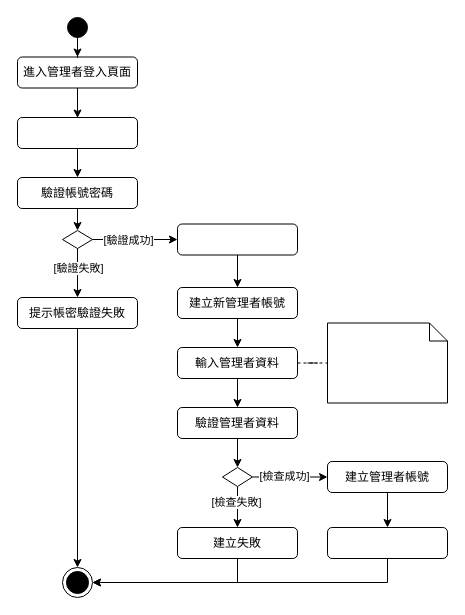
Some shapes in this 465 by 615 pixel diagram are drawn without their labels. Each missing label, with the centre of its shape:
"信箱(帳號) 使用者名稱 密碼" belongs at (x=387, y=362).
"建立成功" belongs at (x=387, y=542).
"提示登入成功" belongs at (x=237, y=239).
"輸入帳號密碼" belongs at (x=77, y=132).
